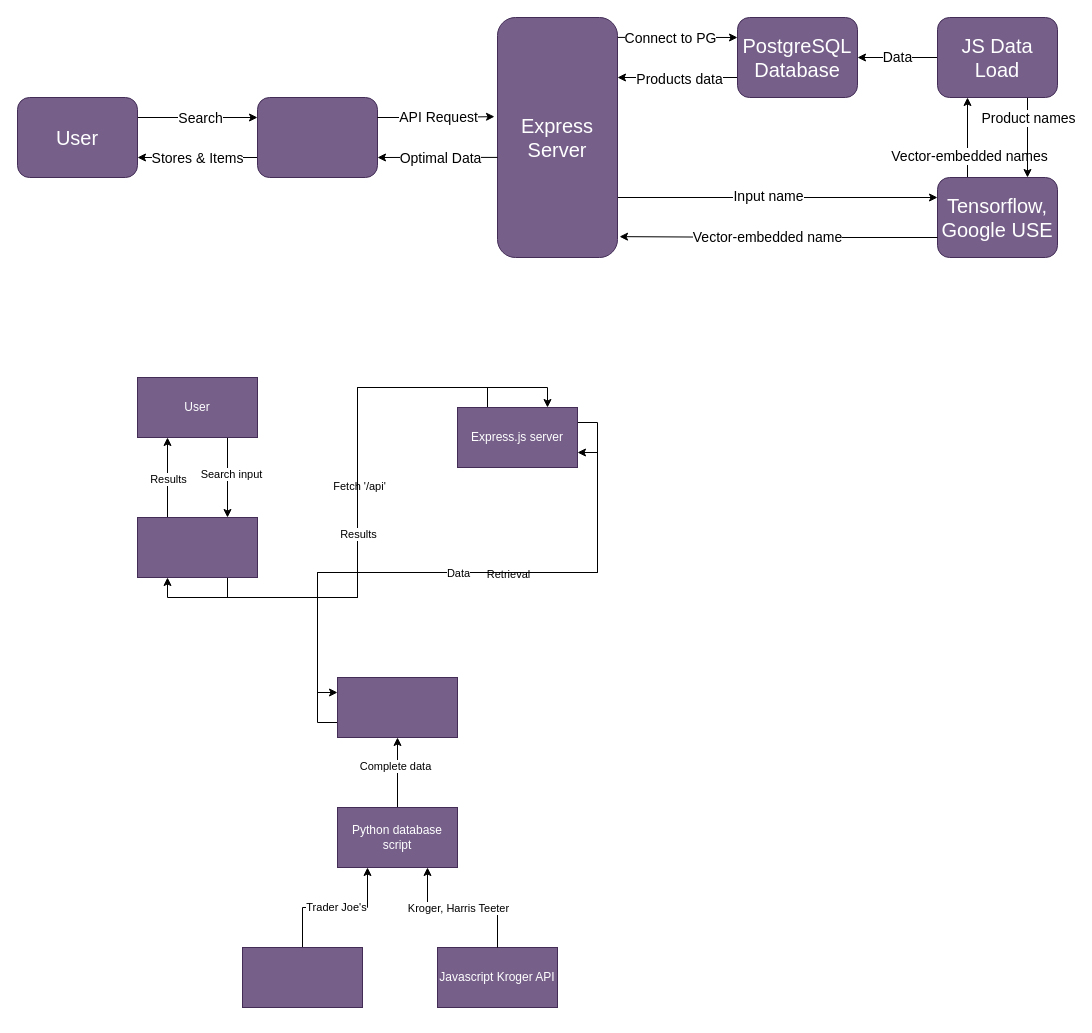
Image size: 1092x1033. Some labels were removed from this diagram. Here are the shapes that lost their labels. From the top down, the box of each, then its label:
(256, 96, 378, 178): React UI
(136, 516, 258, 578): React.js UI
(336, 676, 458, 738): PostgreSQL DB
(242, 946, 362, 1008): Python web scraper
